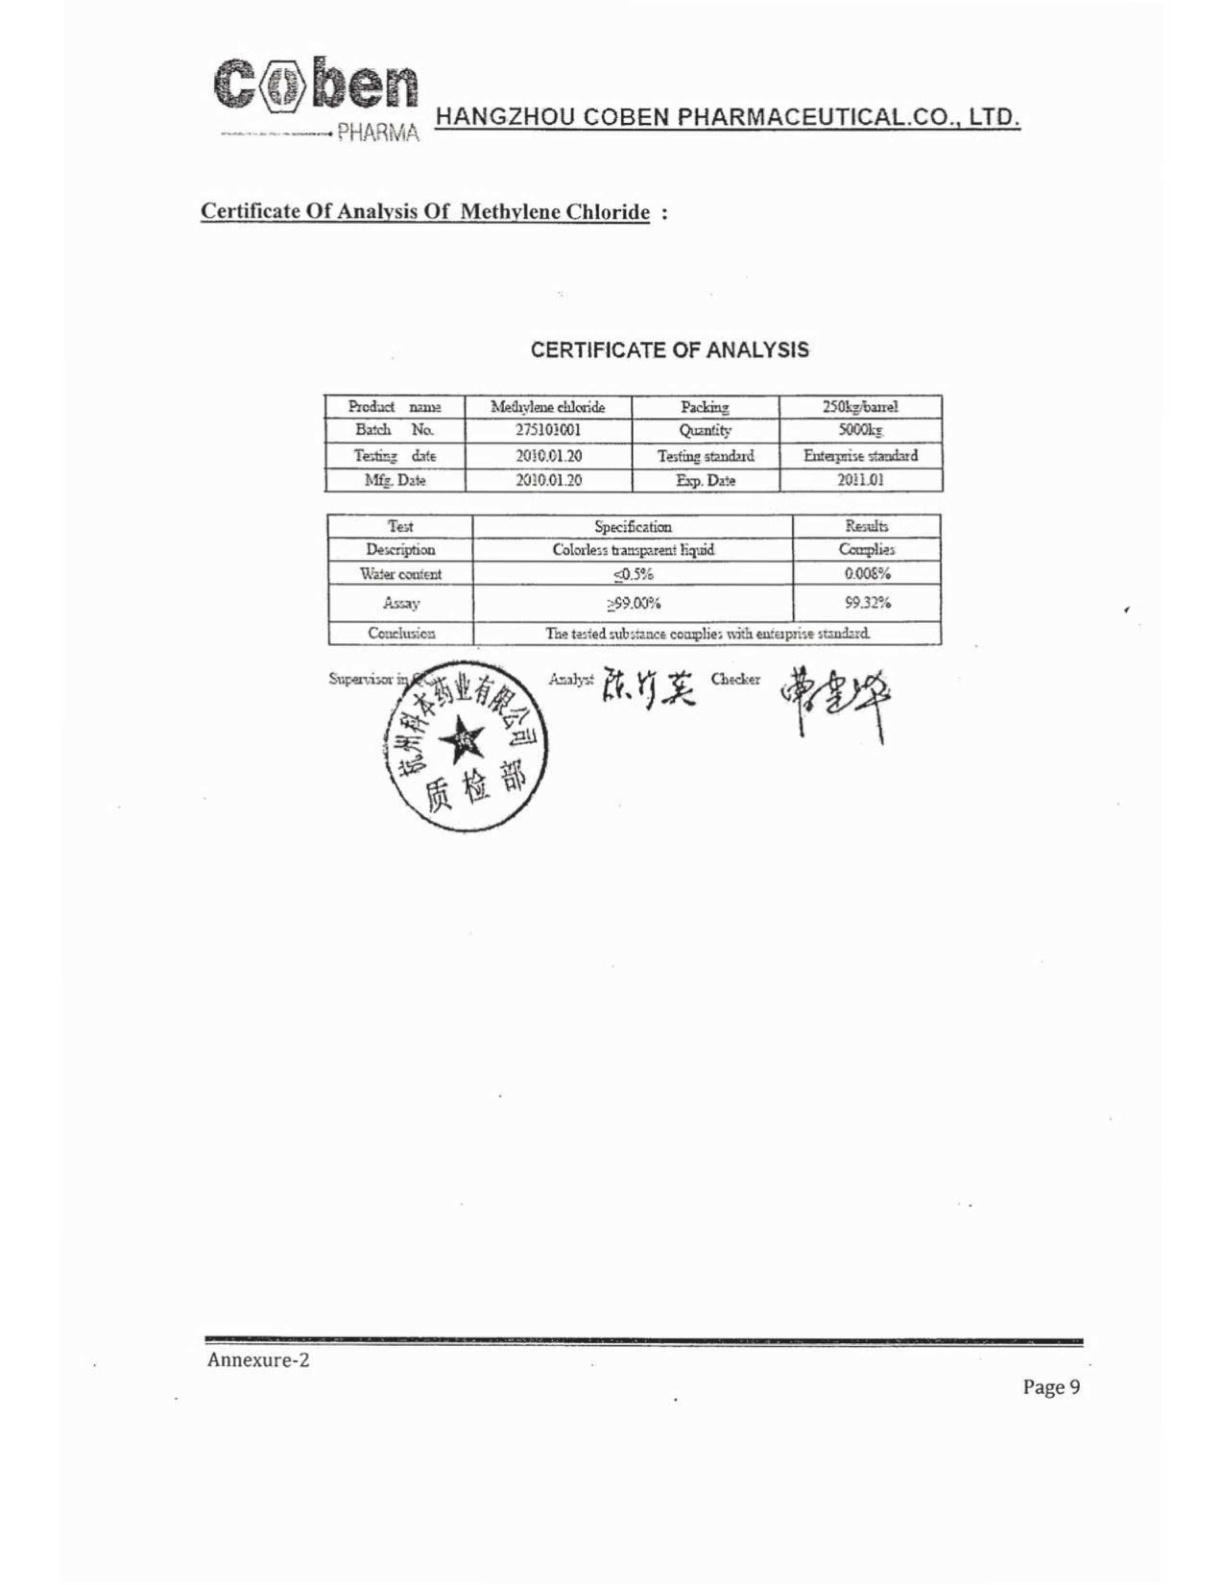full_lined: (321, 393, 944, 494)
merged_cells: (325, 512, 942, 647)
